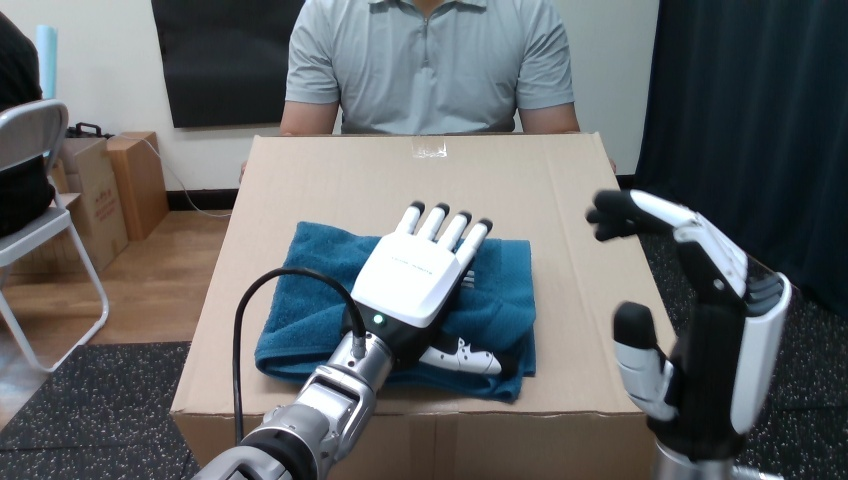left robot hand: (194, 201, 501, 479), (586, 190, 791, 479), (239, 272, 351, 439)
